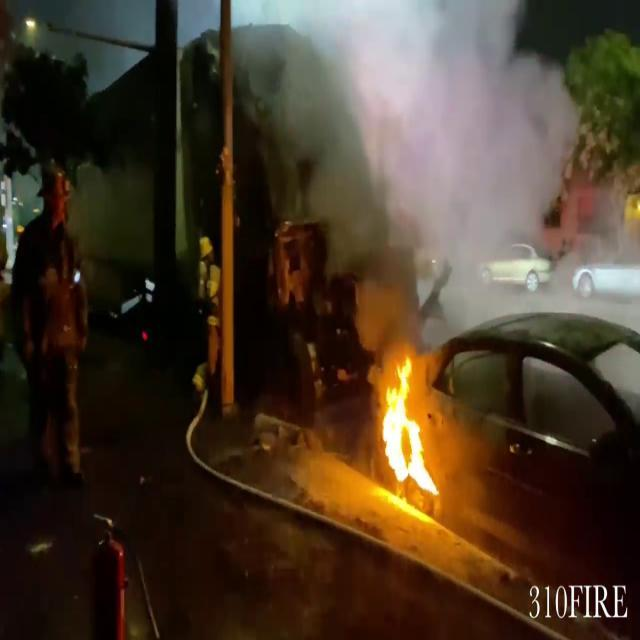Fire: (374, 352, 446, 502)
Smoke: (285, 0, 577, 317)
